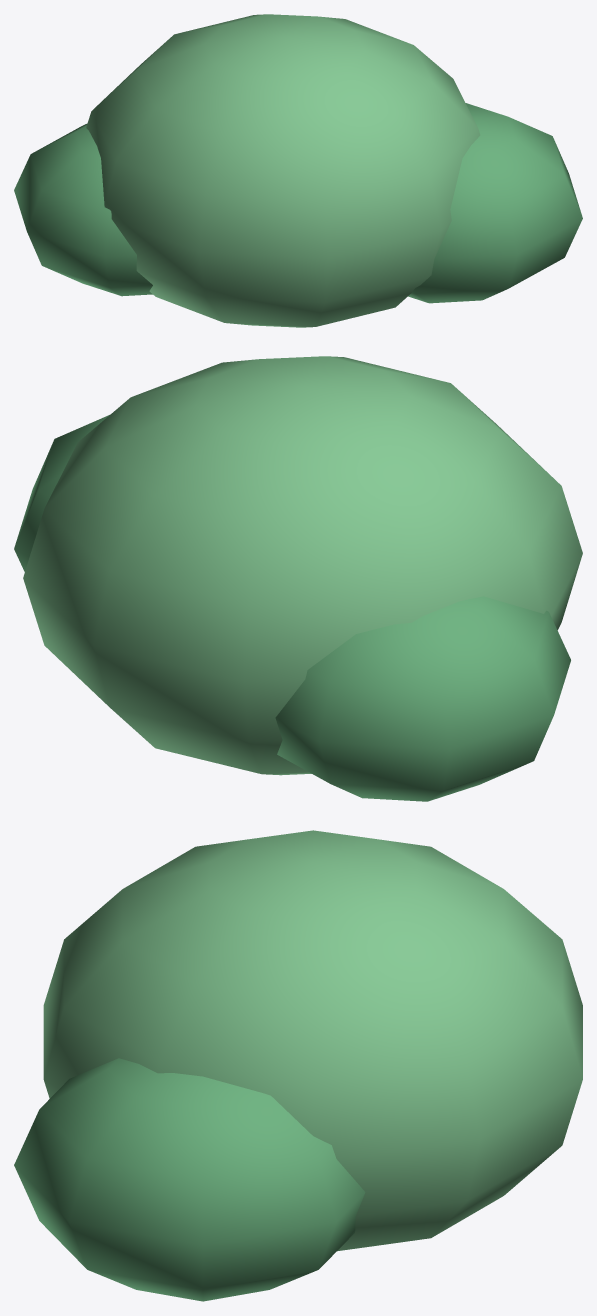
File: arbusto.glb
3 views of the same model, one above another, from view 1: azimuth 30°, elevation 25°; view 2: azimuth 150°, elevation 25°; view 3: azimuth 270°, elevation 25° (orthographic). The views are drawn at different scales.
Visible parts, largest first — view 1: root; view 2: root; view 3: root.
Boxes of the visible parts, x1,y1,x2,y2 form: root: (14,14,582,327); root: (14,356,582,801); root: (14,830,582,1301).
Bounding box in the file's own units: 2.3 × 1.26 × 1.81.
